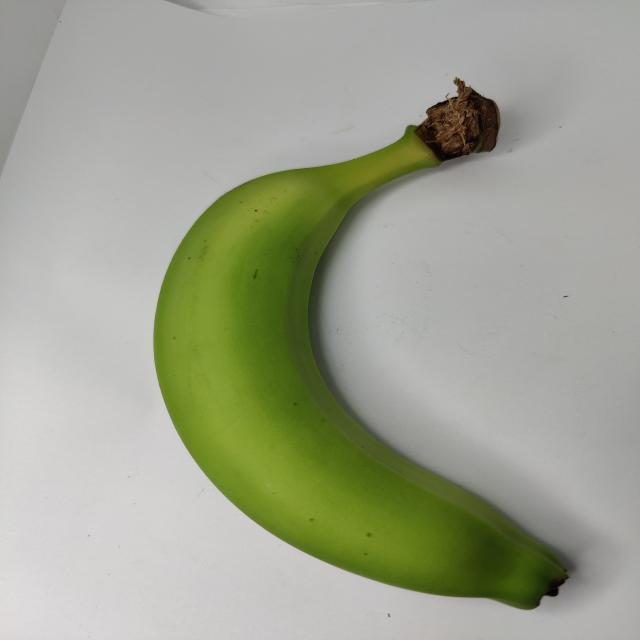raw: (96, 61, 636, 633)
